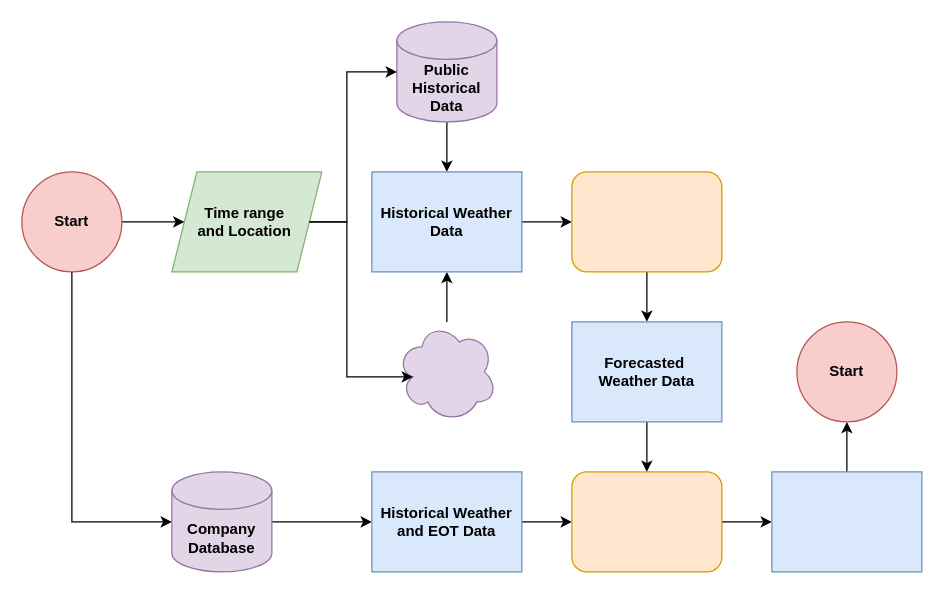
Image size: 944x594. Some labels were removed from this diagram. Each missing label, with the centre of its shape:
API: point 446,371
EOT and Bad Weather Model: point 646,521
Future EOT Prediction: point 846,521
Weather Forecasting Model: point 646,221
